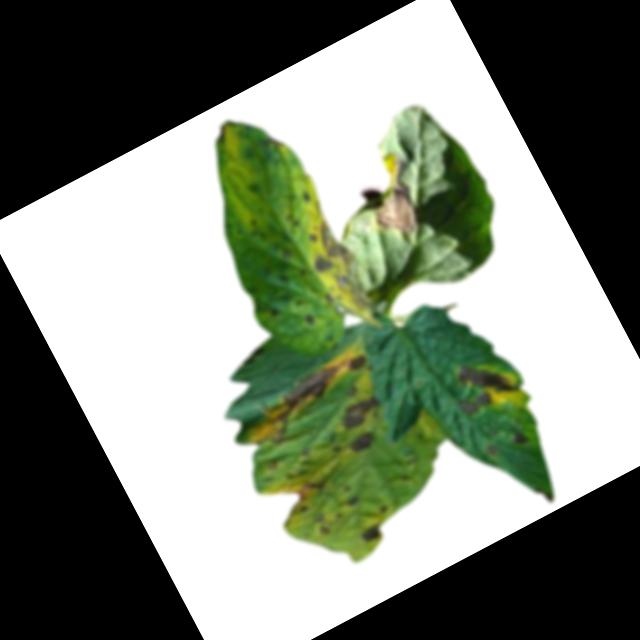Early_blight: (296, 211, 382, 326), (350, 148, 437, 247), (260, 358, 354, 430), (456, 349, 517, 411), (335, 391, 384, 434), (455, 385, 496, 422), (343, 427, 379, 459), (289, 476, 327, 506), (210, 118, 244, 146), (342, 351, 370, 377), (309, 512, 334, 540), (359, 522, 386, 545), (509, 429, 530, 451), (302, 311, 321, 331), (483, 441, 501, 462), (344, 497, 360, 512)
